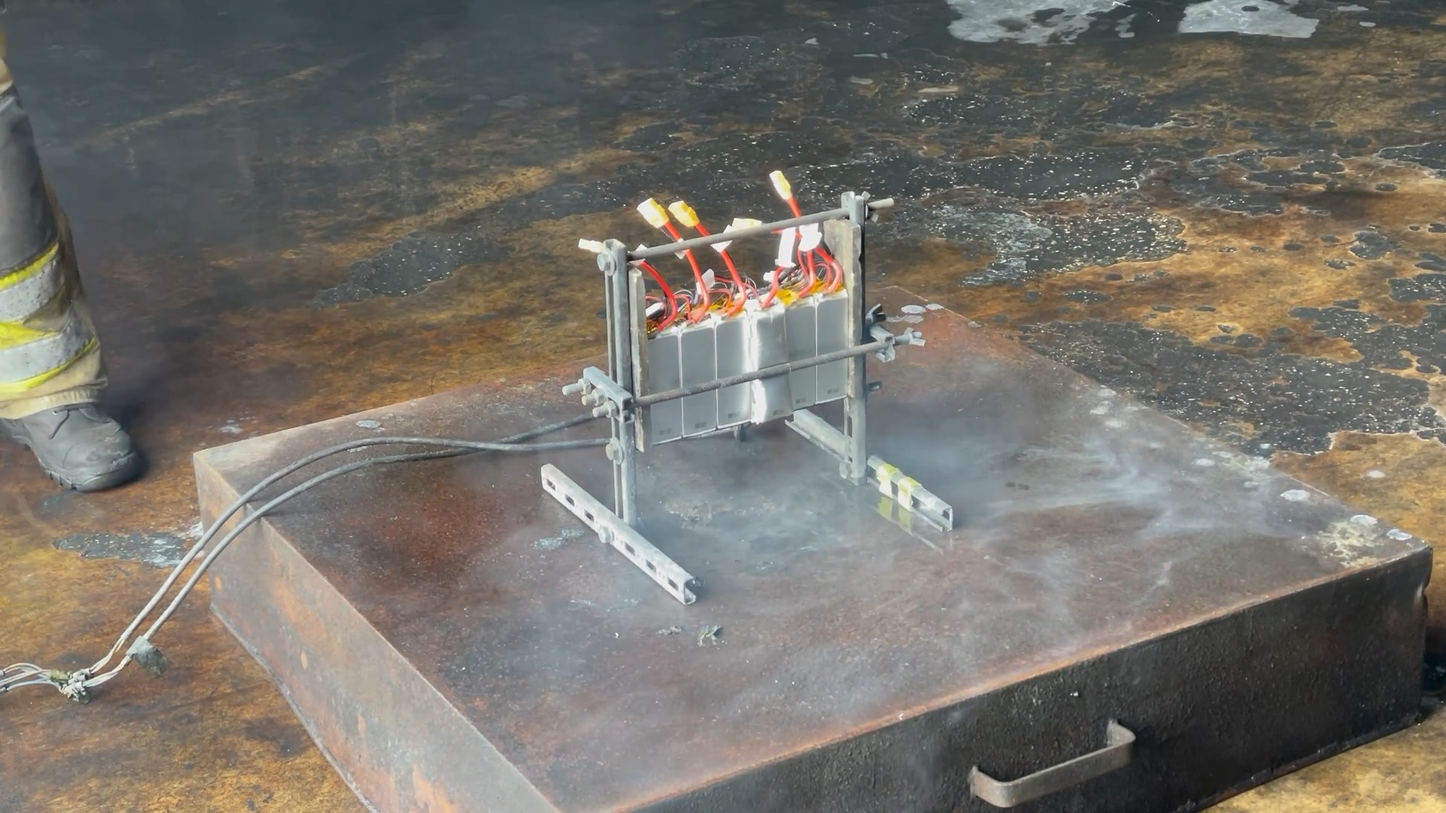smoke: (673, 317, 1202, 550)
